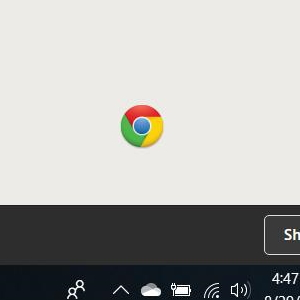chrome: (119, 104, 164, 149)
